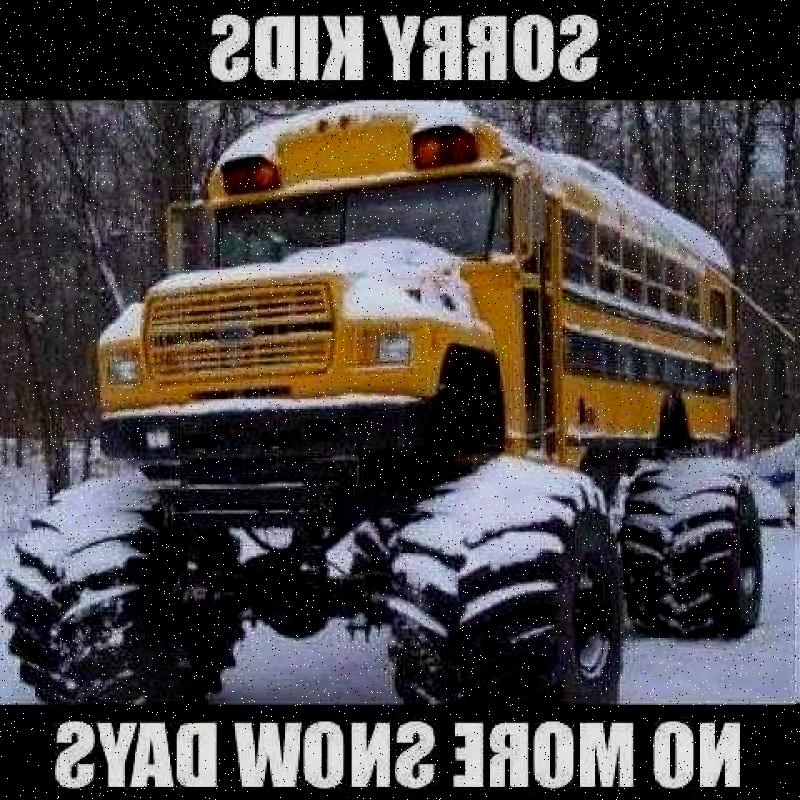bus: (153, 120, 744, 480)
